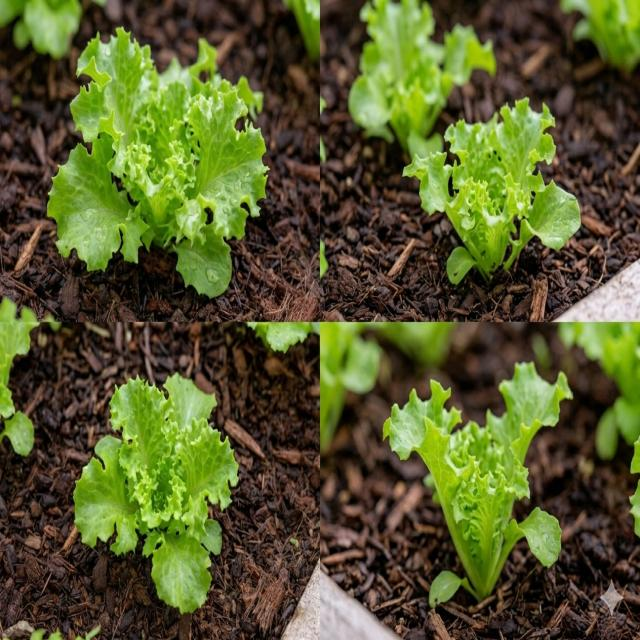inmadura: (48, 28, 268, 297), (383, 363, 572, 607), (73, 374, 238, 613), (404, 97, 580, 284)
